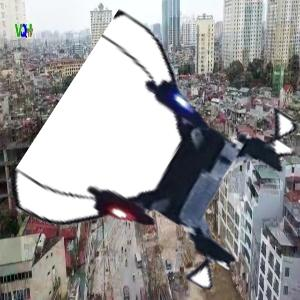drone: (44, 41, 289, 286)
